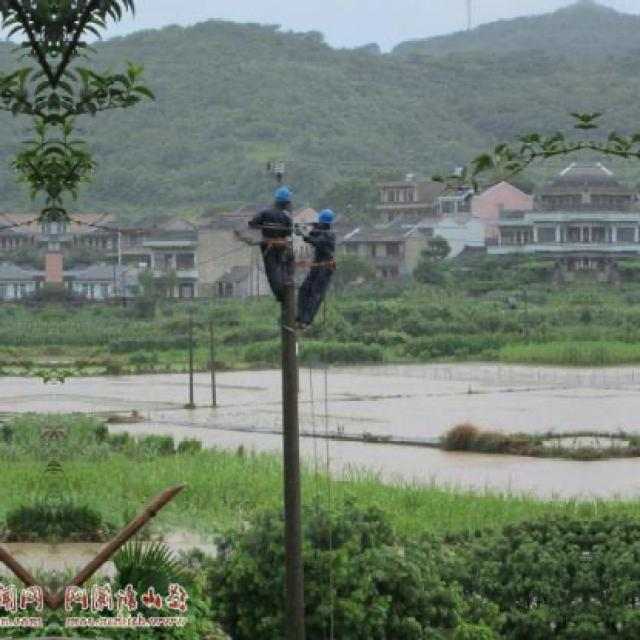con casco: (295, 191, 345, 239), (270, 174, 304, 215)
